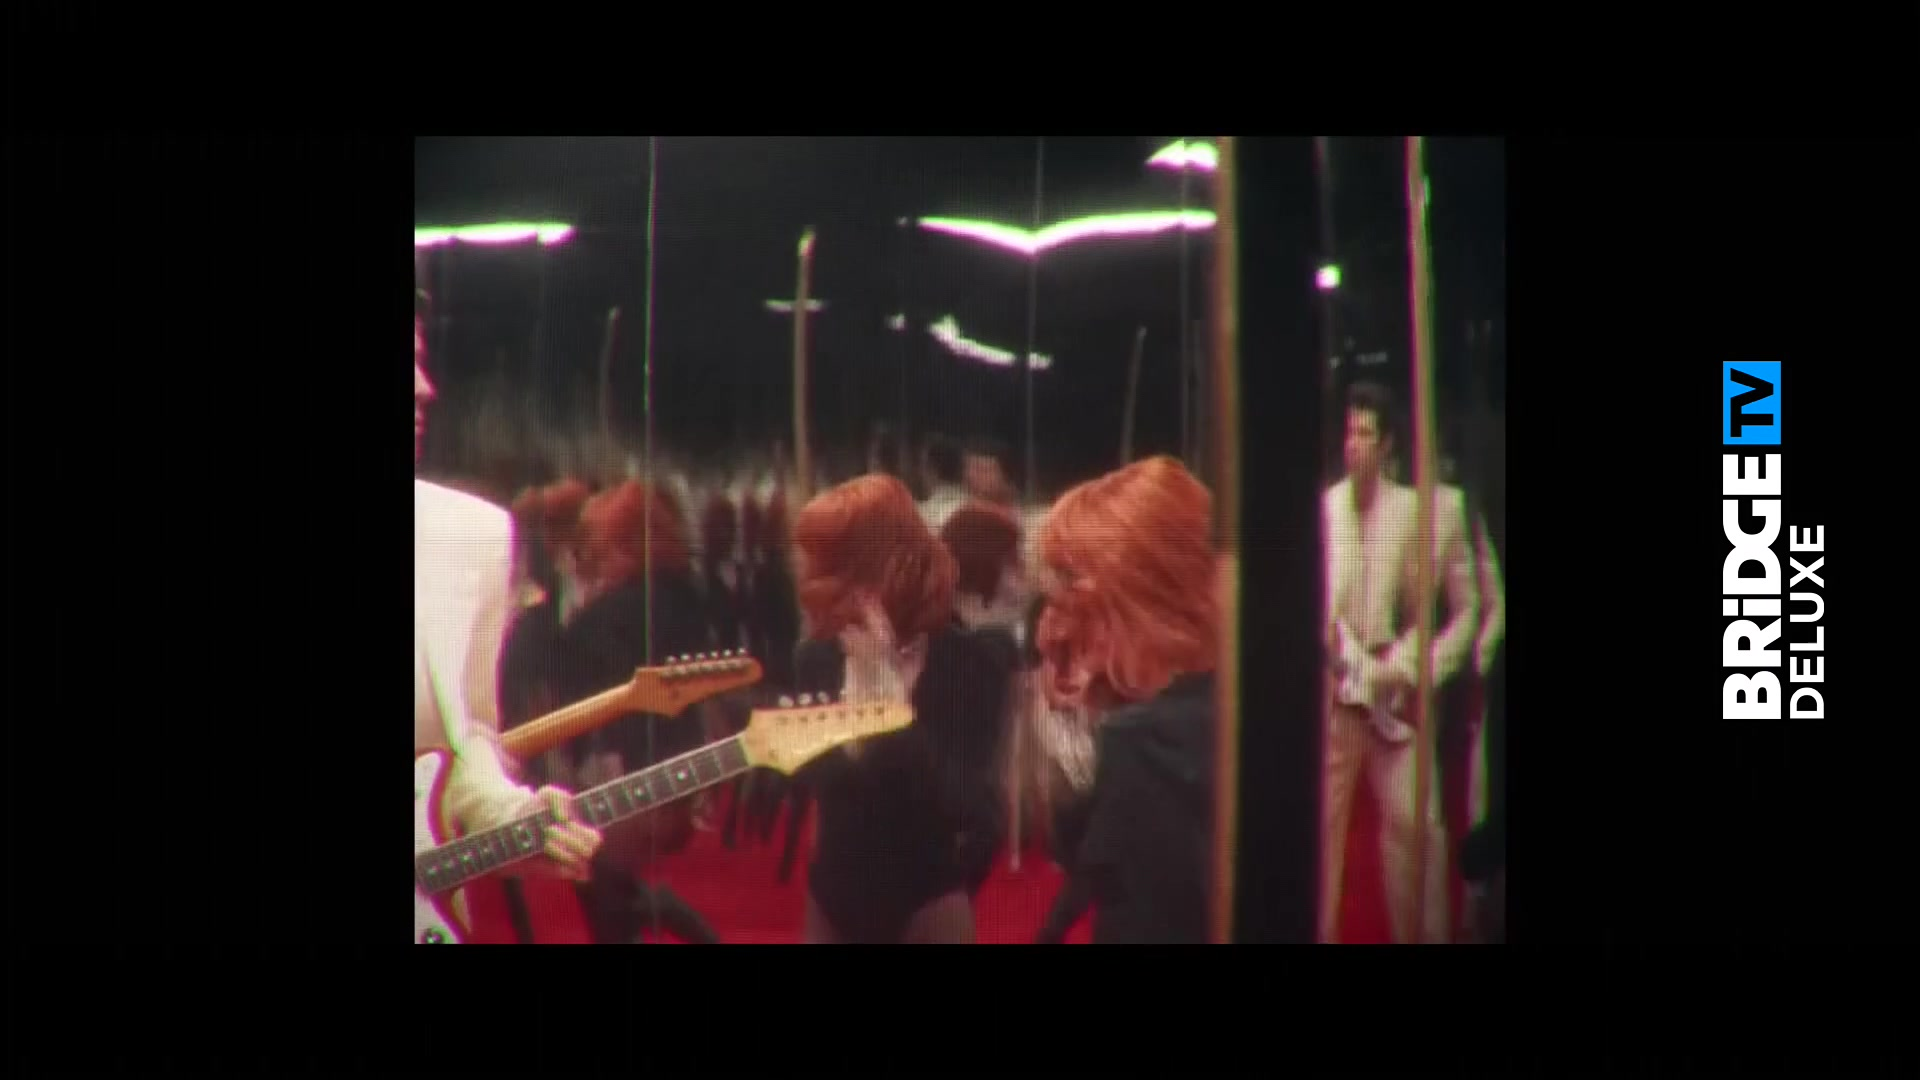Bridge_TV_Deluxe: (1718, 353, 1829, 728)
